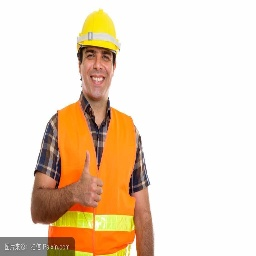helmet: (75, 12, 122, 53)
person: (30, 8, 155, 238)
vest: (54, 104, 139, 236)
